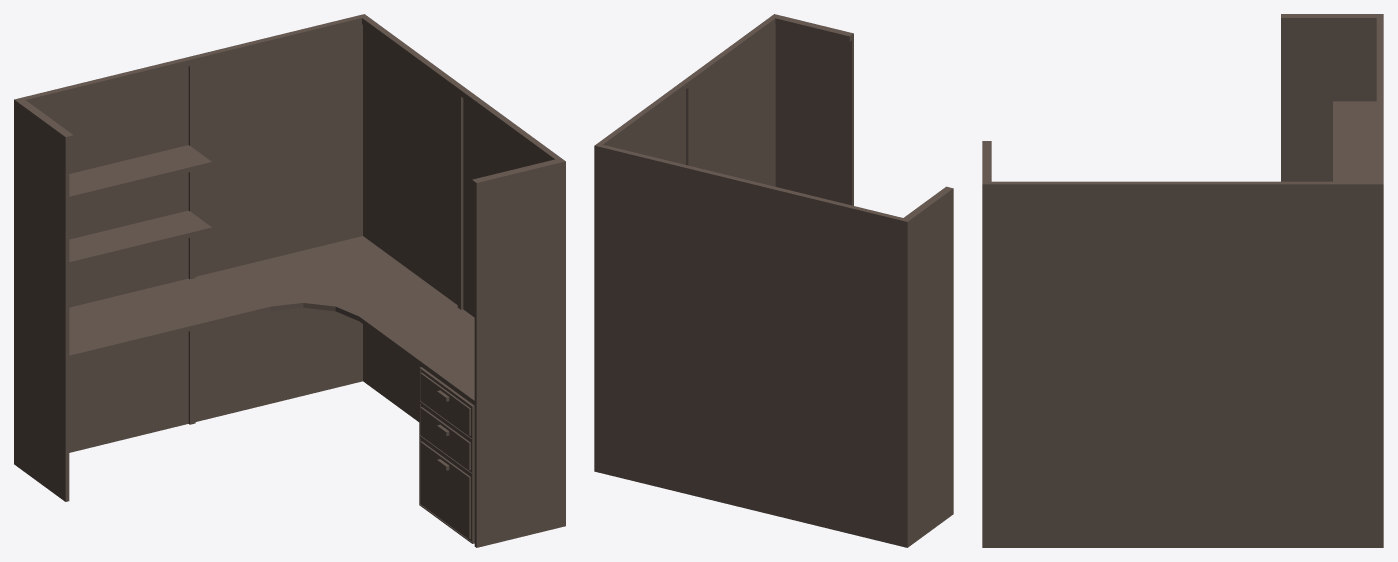
The model's file is Cubicle.fbx.glb.
3 renders of one model, left to right at view 1: azimuth 30°, elevation 25°; view 2: azimuth 150°, elevation 25°; view 3: azimuth 270°, elevation 25°, orthographic. The views are drawn at different scales.
Parts seen in each view (by area): view 1: Cubicle.1; view 2: Cubicle.1; view 3: Cubicle.1.
Part boxes in pixels (left/top/right/bottom): Cubicle.1: left=14, top=14, right=565, bottom=547; Cubicle.1: left=594, top=14, right=953, bottom=547; Cubicle.1: left=982, top=14, right=1383, bottom=547.
Size of the model in its own units: 201 by 200 by 200.
